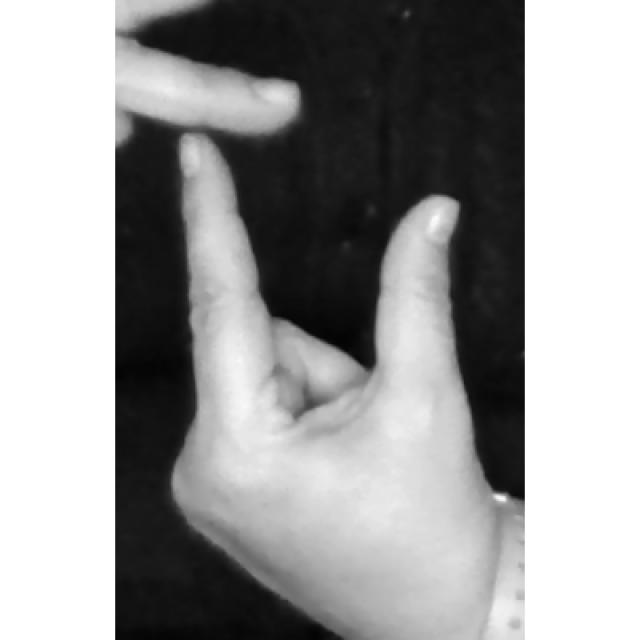U--: (117, 0, 526, 640)
